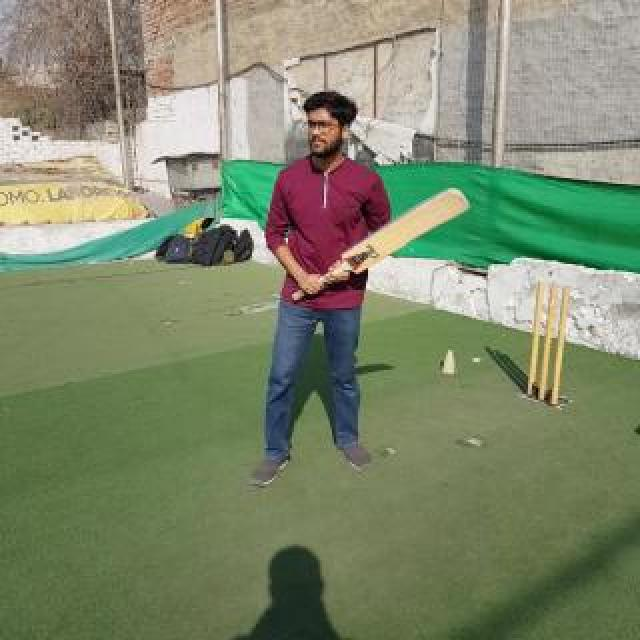bat: (292, 188, 470, 302)
